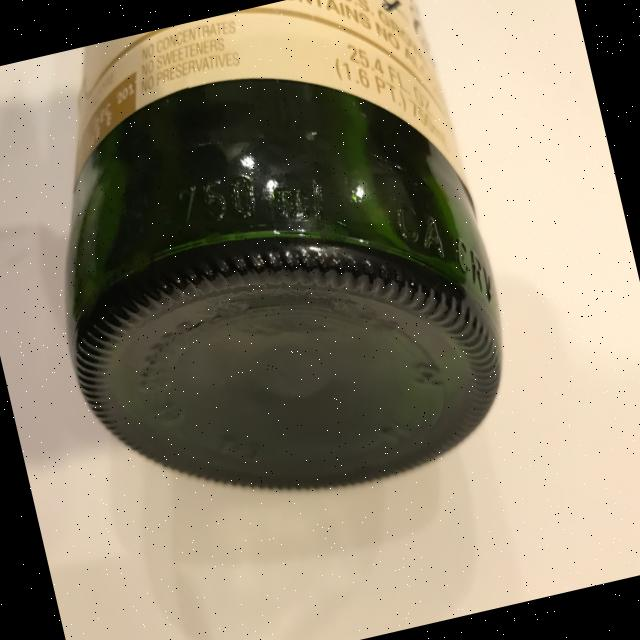glass: (2, 0, 533, 542)
